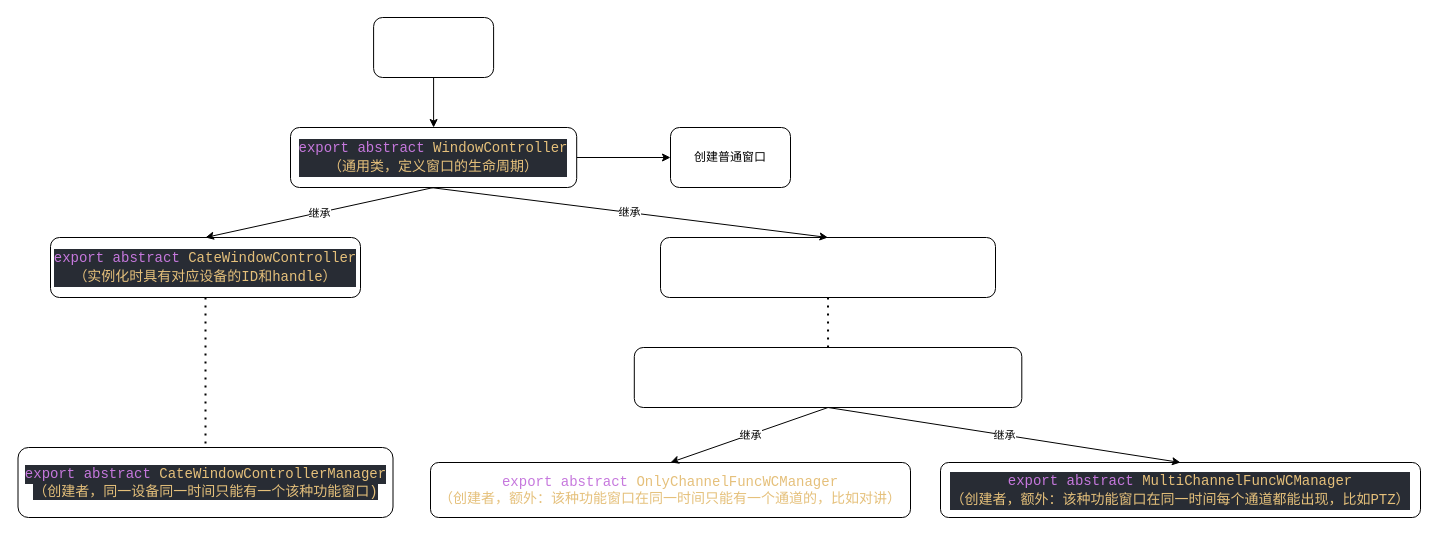
Image size: 1438x535. Some labels were removed from this diagram. Each missing label, with the centre of its shape:
"abstract ChannelFuncWCManager （同一时间同一个通道只能有一个该种功能窗口）" goes at point (827, 377).
"export abstract ChannelFuncWC (实例化时具有通道对象，专为创建通道功能窗口)" goes at point (828, 267).
"基于 BrowserWindow" goes at point (433, 47).
